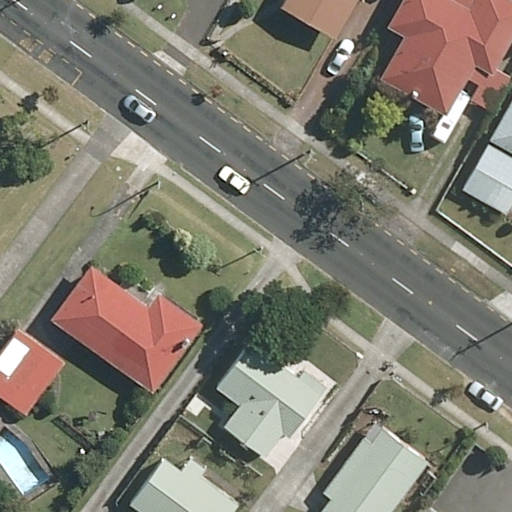DT: (298, 144, 321, 172)
